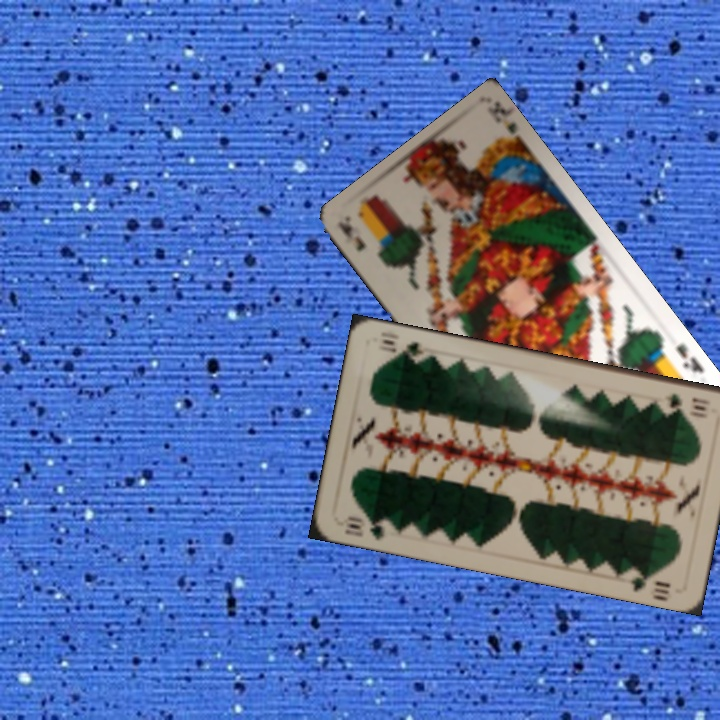EK: (672, 339, 707, 376), (337, 219, 369, 254)
G10: (336, 512, 396, 543), (661, 390, 714, 414)
